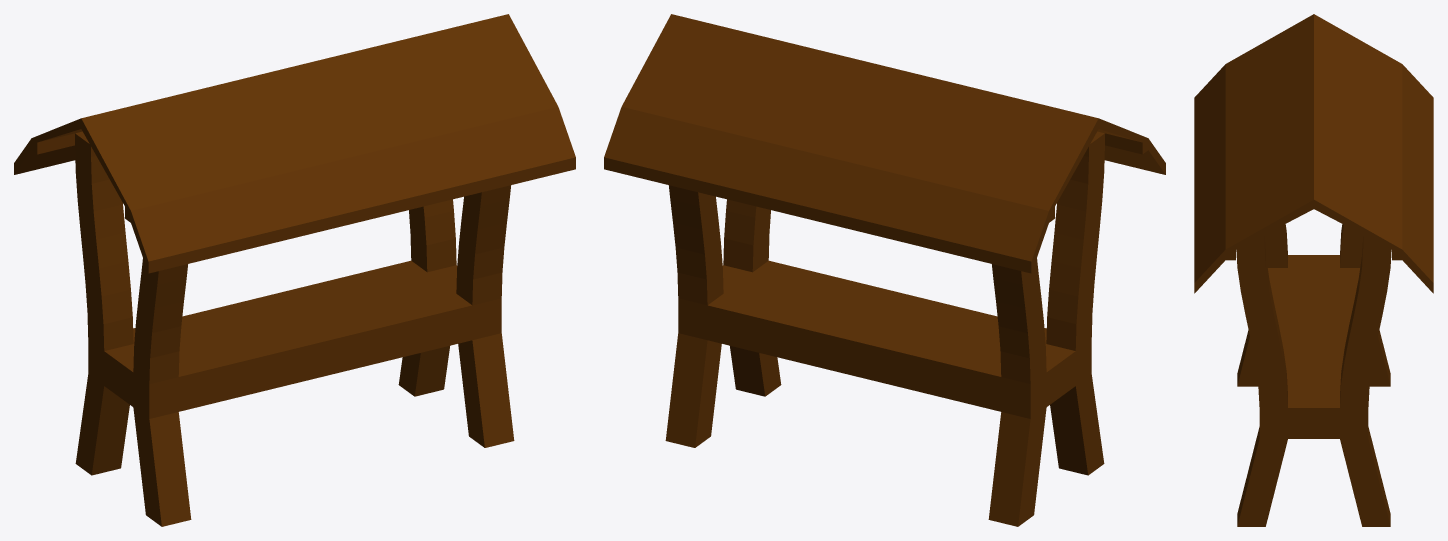
Rendered from shop.fbx.
3 renders of one model, left to right at view 1: azimuth 30°, elevation 25°; view 2: azimuth 150°, elevation 25°; view 3: azimuth 270°, elevation 25°, orthographic. The views are drawn at different scales.
Parts seen in each view (by area): view 1: Cube; view 2: Cube; view 3: Cube.
Boxes of the visible parts, left/top/right/bottom form: Cube: left=14, top=14, right=575, bottom=526; Cube: left=604, top=14, right=1165, bottom=526; Cube: left=1194, top=14, right=1433, bottom=526.
Bounding box in the file's own units: 243 × 210 × 132.
